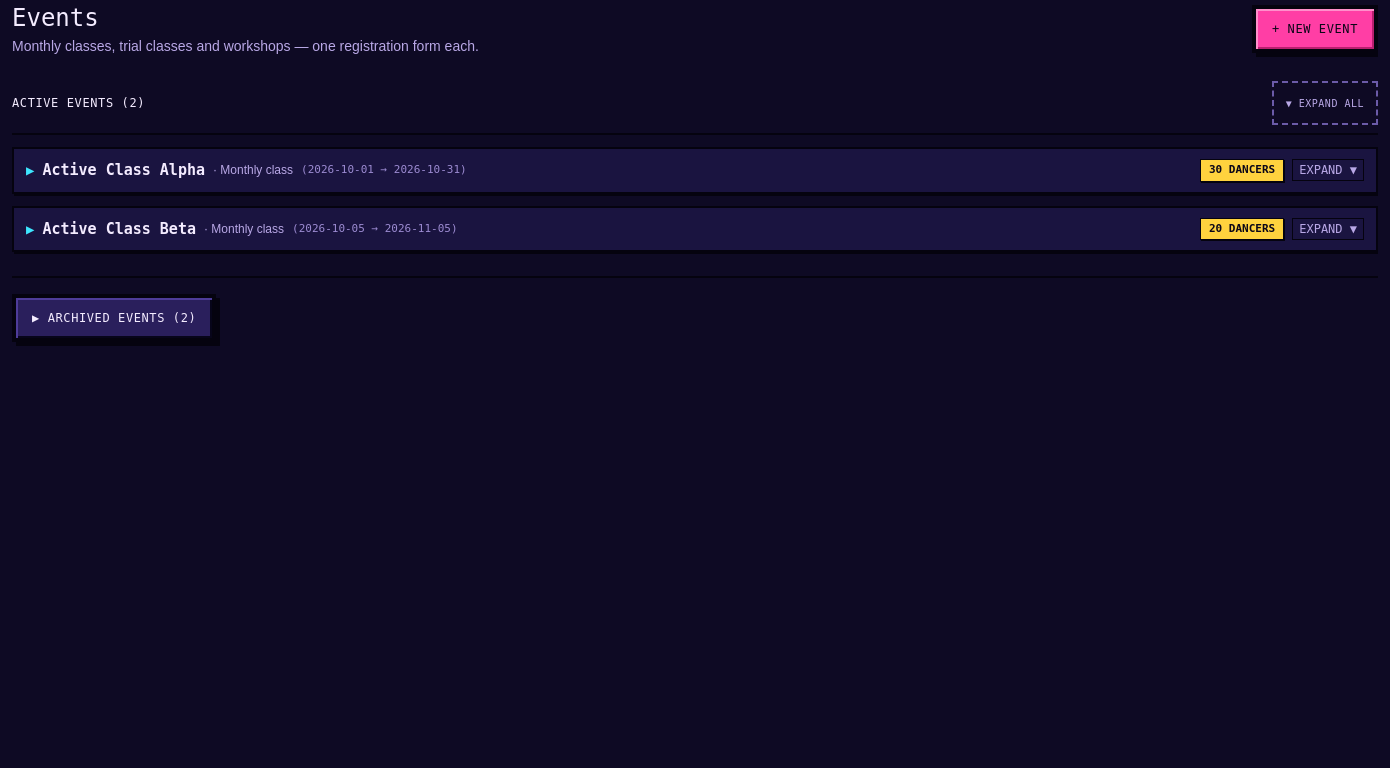
Test case: EventsPage Collapsible Accordions and Year-Based Archive › renders active events with expand/collapse toggle bars
Check: the text "Active Class Alpha" is shown, box [42,159,205,182]
Check: the text "Active Class Beta" is shown, box [42,218,196,240]
// Click to expand Alpha
Click the button with test id "toggle-event-ev-active-1" at (124, 170), box [12,147,1378,194]
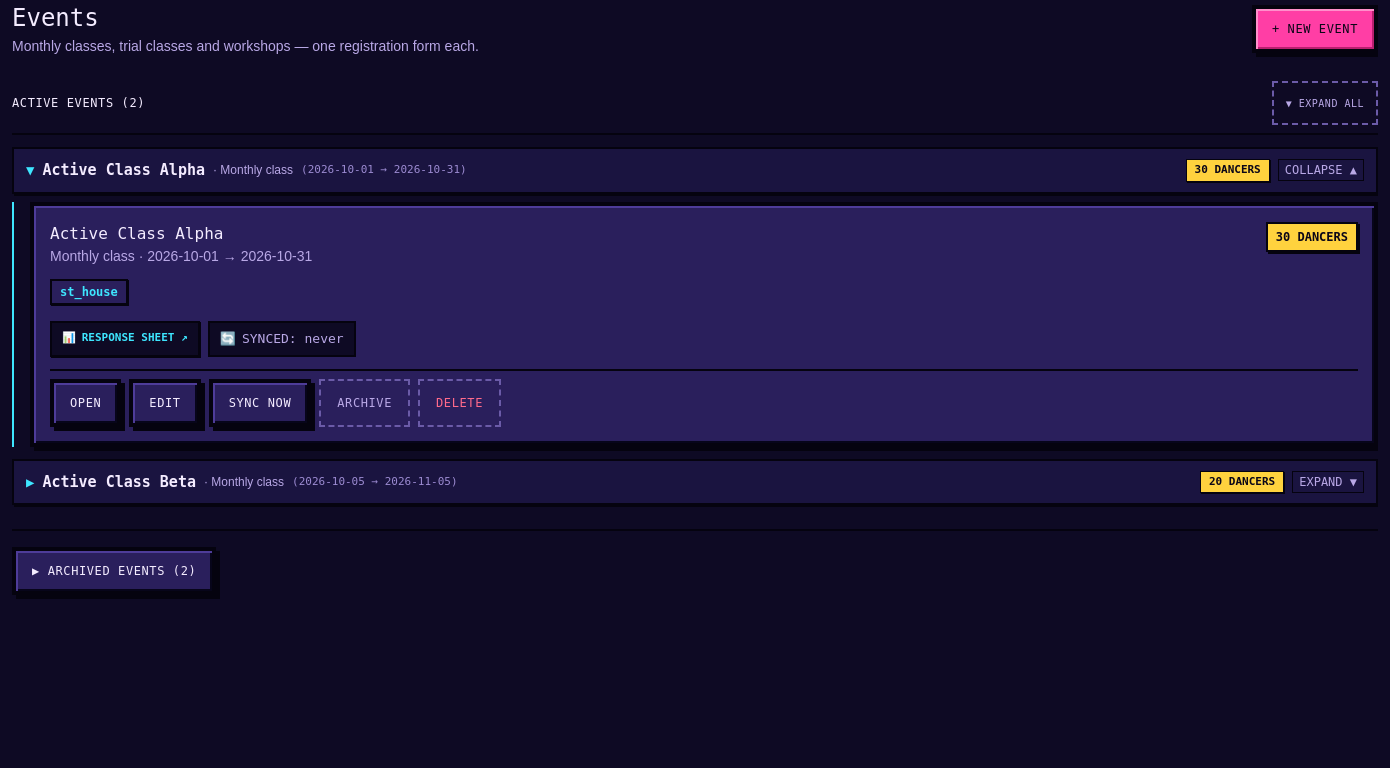
Check: the element with test id "event-card-ev-active-1" is shown, box [30,202,1378,446]
